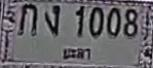0: (88, 6, 104, 37), (106, 7, 120, 37)
1: (75, 5, 84, 36)
8: (123, 8, 137, 37)
A01: (18, 3, 36, 35)
A07: (44, 4, 59, 35)
YLA: (61, 46, 94, 63)
